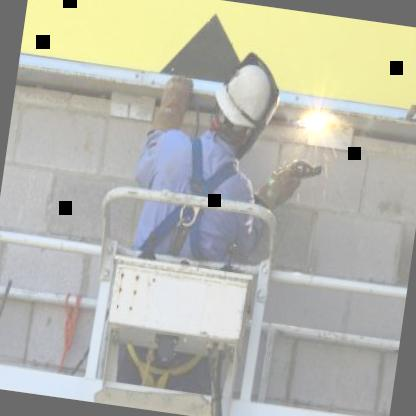helmet: (205, 60, 278, 148)
